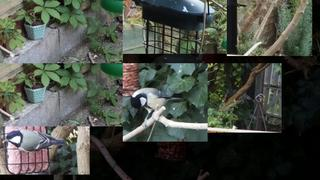great tit: (130, 87, 184, 128), (2, 129, 66, 152)
